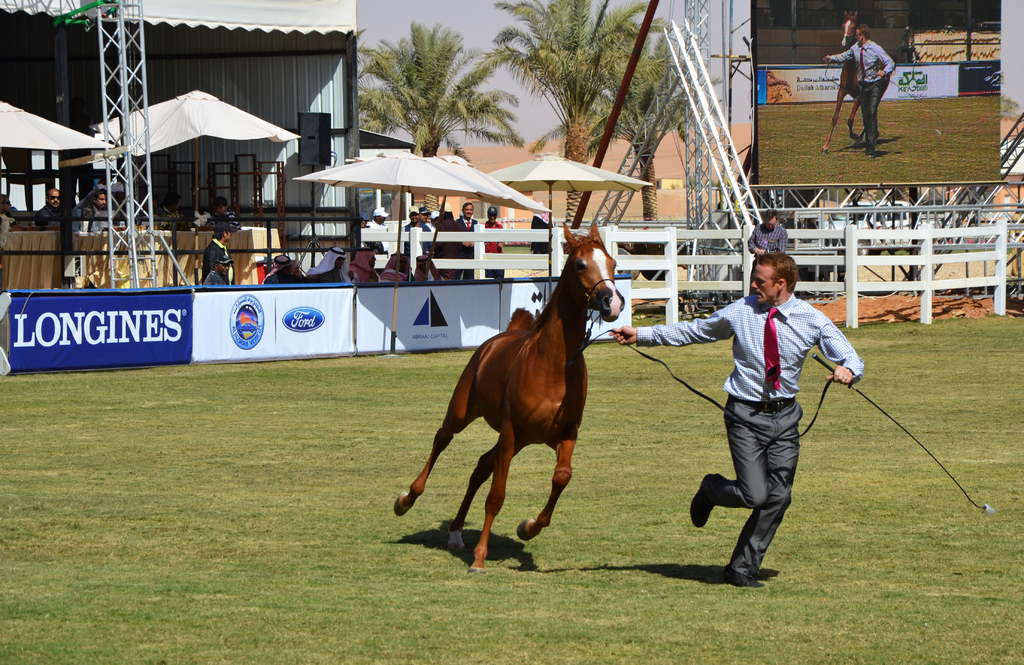horse: (394, 222, 624, 579)
